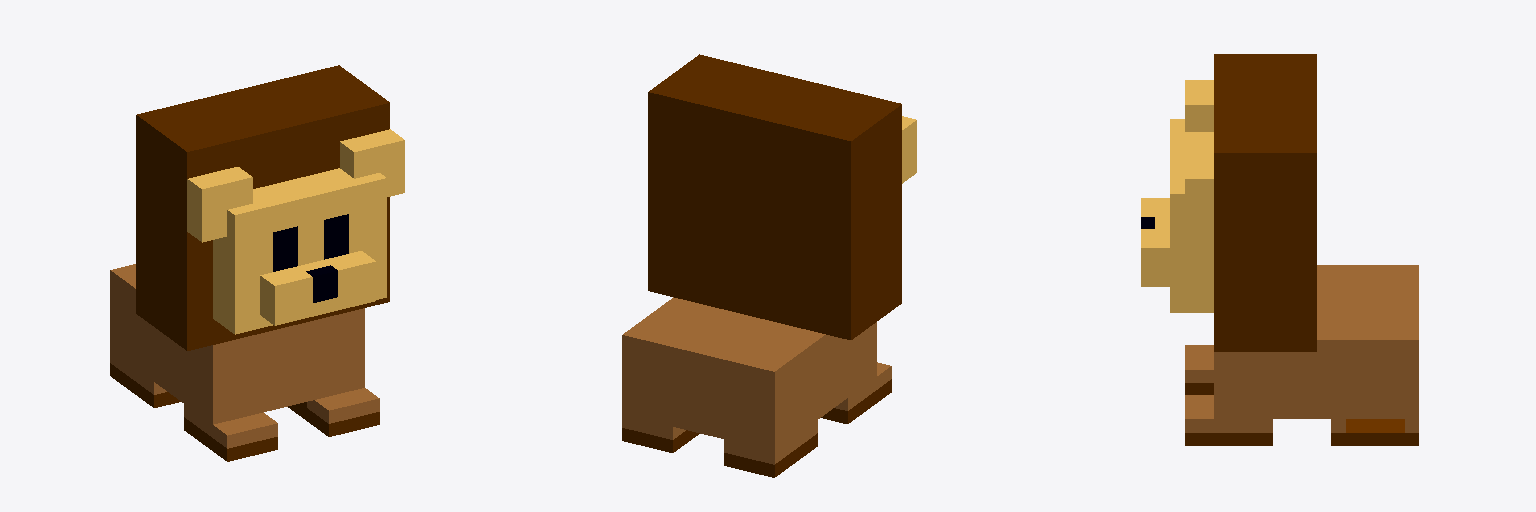
3 renders of one model, left to right at view 1: azimuth 30°, elevation 25°; view 2: azimuth 150°, elevation 25°; view 3: azimuth 270°, elevation 25°, orthographic.
Bounding box in the file's own units: 16 × 23 × 19.
Materials: 1 (1 with a texture image).